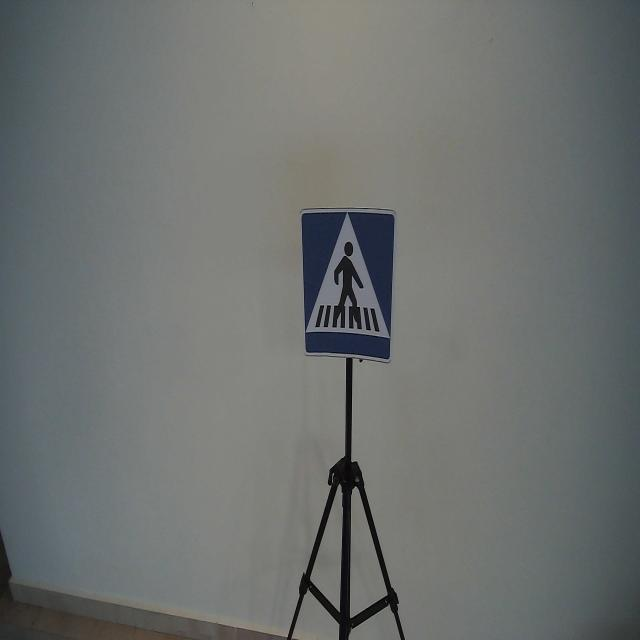crosswalk_sign: (298, 205, 398, 366)
